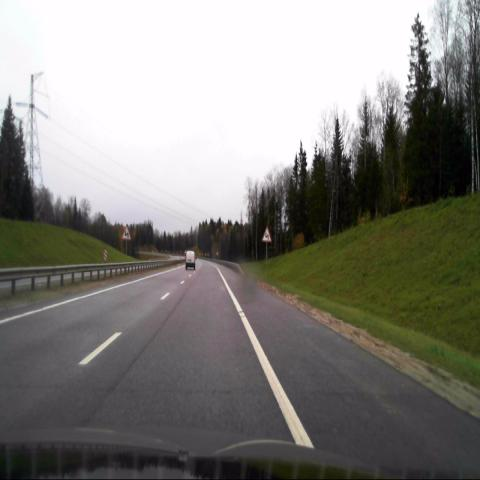1_12_2: (121, 224, 131, 239), (262, 226, 271, 242)
